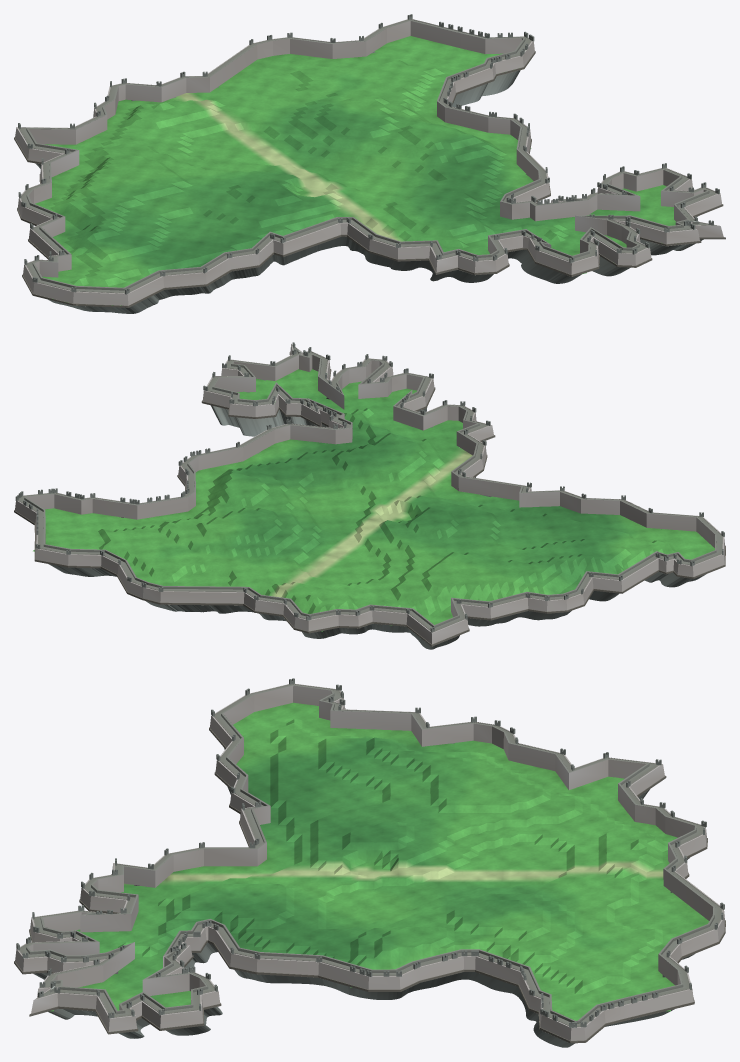
The picture shows the model from 3 angles, top to bottom: view 1: azimuth 30°, elevation 25°; view 2: azimuth 150°, elevation 25°; view 3: azimuth 270°, elevation 25°; orthographic projection. The views are drawn at different scales.
Visible parts, largest first — view 1: ground_f3f5368e; view 2: ground_f3f5368e; view 3: ground_f3f5368e.
Boxes of the visible parts, x1,y1,x2,y2 form: ground_f3f5368e: [14, 14, 725, 313]; ground_f3f5368e: [14, 342, 725, 649]; ground_f3f5368e: [14, 678, 725, 1047].
Bounding box in the file's own units: 154 × 7.6 × 133.
Materials: 3 (1 with a texture image).
